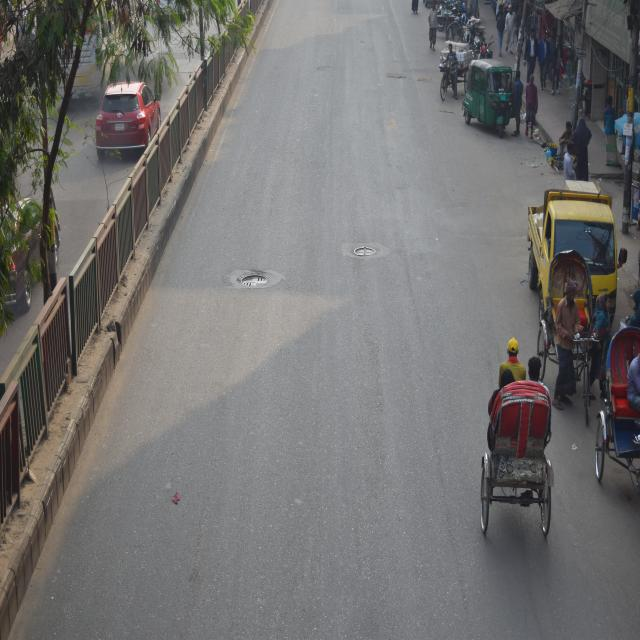pickup-van: (522, 177, 636, 332)
